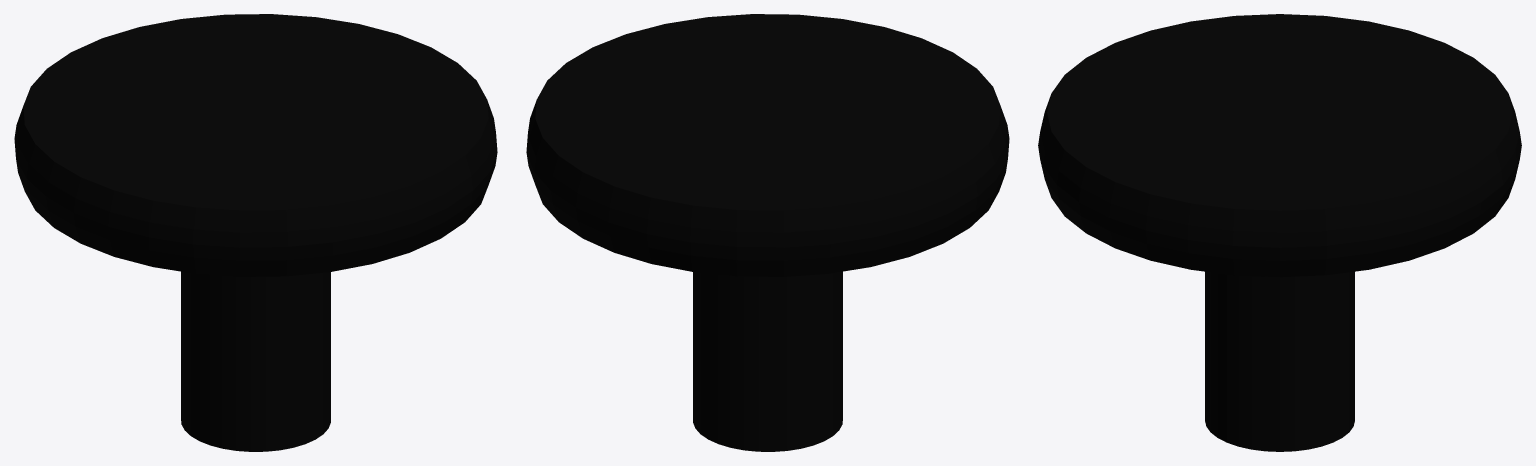
The model's file is Rapture_bar_stool.glb.
The picture shows the model from 3 angles, left to right: view 1: azimuth 30°, elevation 25°; view 2: azimuth 150°, elevation 25°; view 3: azimuth 270°, elevation 25°; orthographic projection.
Parts seen in each view (by area): view 1: chair; view 2: chair; view 3: chair.
Part boxes in pixels (x1=…): chair: x1=14, y1=14, x2=497, y2=451; chair: x1=526, y1=14, x2=1009, y2=451; chair: x1=1038, y1=14, x2=1521, y2=451.
Bounding box in the file's own units: 1.74 × 1.22 × 1.74.
1 material, 1 textured.
